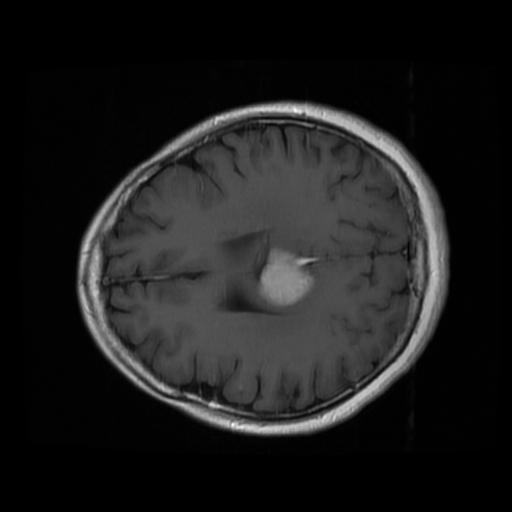meningioma: (257, 249, 316, 306)
